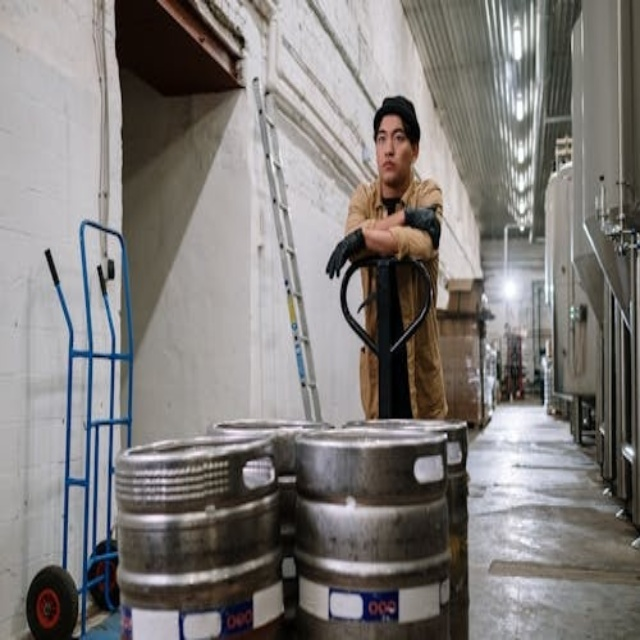Guantes: (326, 227, 366, 278), (403, 205, 441, 248)
Sin_gafas: (375, 131, 411, 148)
Sin_mascara: (378, 154, 399, 186)
